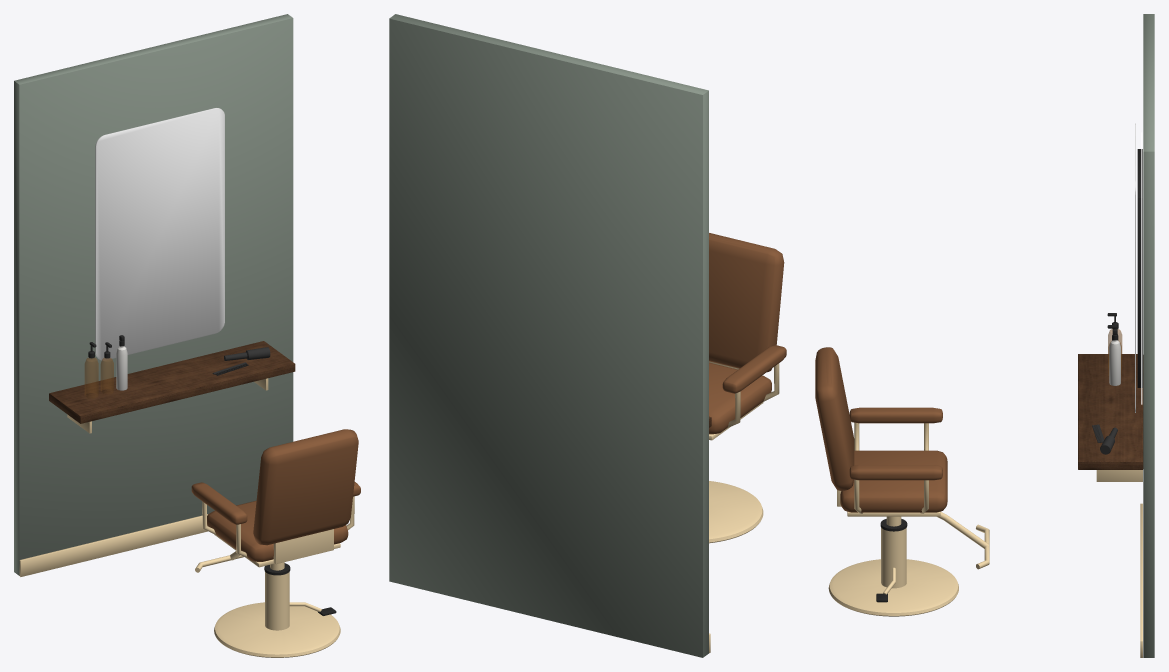
File: salon.glb
3 renders of one model, left to right at view 1: azimuth 30°, elevation 25°; view 2: azimuth 150°, elevation 25°; view 3: azimuth 270°, elevation 25°, orthographic. The views are drawn at different scales.
Parts seen in each view (by area): view 1: wand, spiegel, stuhl_lehne, ablage, stuhl_fuss, wand_sockel, stuhl_sitz, stuhl_saeule, stuhl_lehnenbuegel, stuhl_arm_l, flasche_0, flasche_2; view 2: wand, stuhl_lehne, stuhl_fuss, stuhl_sitz, stuhl_arm_l; view 3: wand, ablage, stuhl_fuss, stuhl_sitz, stuhl_lehne, stuhl_arm_l, stuhl_arm_r, spiegel_halter, stuhl_saeule, ablage_konsole_r, spiegel_led, flasche_2.
Part boxes in pixels (x1,y1,x2,y2): wand: (14,14,293,575); spiegel: (95,108,224,360); stuhl_lehne: (253,429,358,545); ablage: (49,341,295,423); stuhl_fuss: (214,602,340,657); wand_sockel: (19,514,207,576); stuhl_sitz: (207,500,348,561); stuhl_saeule: (265,572,289,630); stuhl_lehnenbuegel: (273,529,333,564); stuhl_arm_l: (191,482,247,524); flasche_0: (84,357,98,398); flasche_2: (116,346,127,390); wand: (389,14,708,657); stuhl_lehne: (709,233,784,372); stuhl_fuss: (709,481,763,543); stuhl_sitz: (709,362,771,434); stuhl_arm_l: (722,345,786,393); wand: (1143,14,1154,657); ablage: (1078,354,1143,469); stuhl_fuss: (828,559,958,616); stuhl_sitz: (840,450,947,512); stuhl_lehne: (815,347,854,490); stuhl_arm_l: (849,407,942,423); stuhl_arm_r: (849,465,942,480); spiegel_halter: (1137,149,1142,387); stuhl_saeule: (881,527,906,588); ablage_konsole_r: (1096,470,1142,481); spiegel_led: (1141,132,1142,404); flasche_2: (1109,340,1120,385).
Size of the model in its own units: 1.4 by 2.4 by 1.46.
11 materials, 1 textured.
